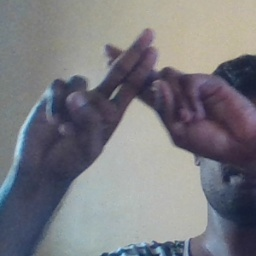F: (70, 20, 194, 143)
